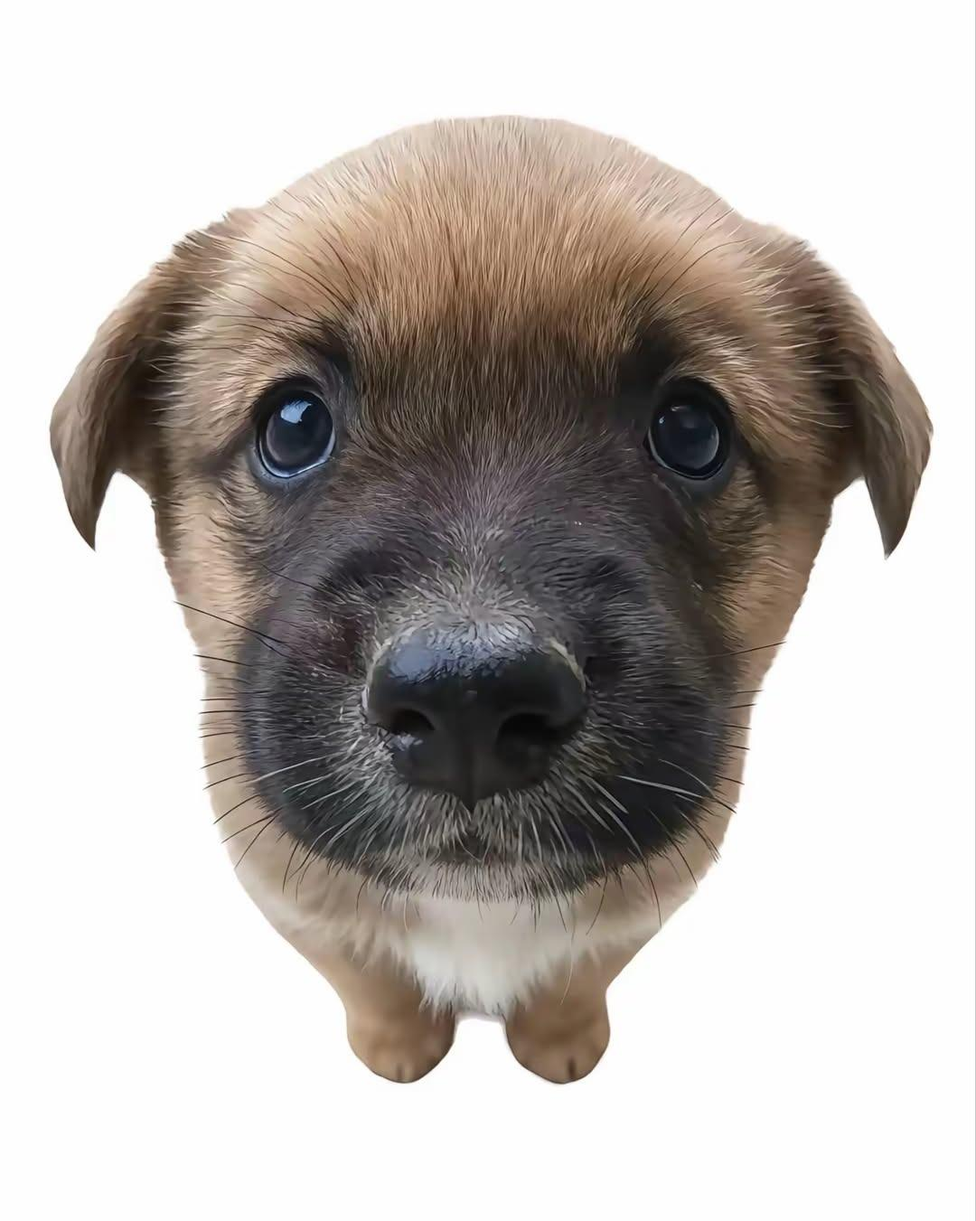puppy-dog: (49, 113, 934, 1088)
